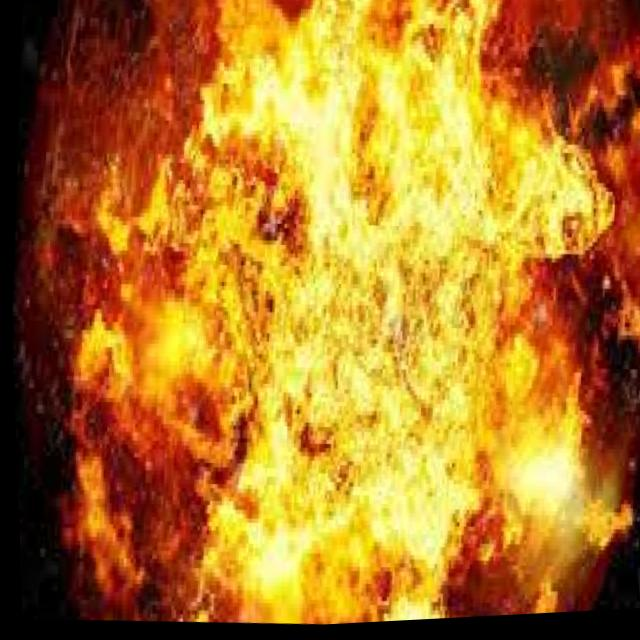Fire: (53, 0, 627, 638)
